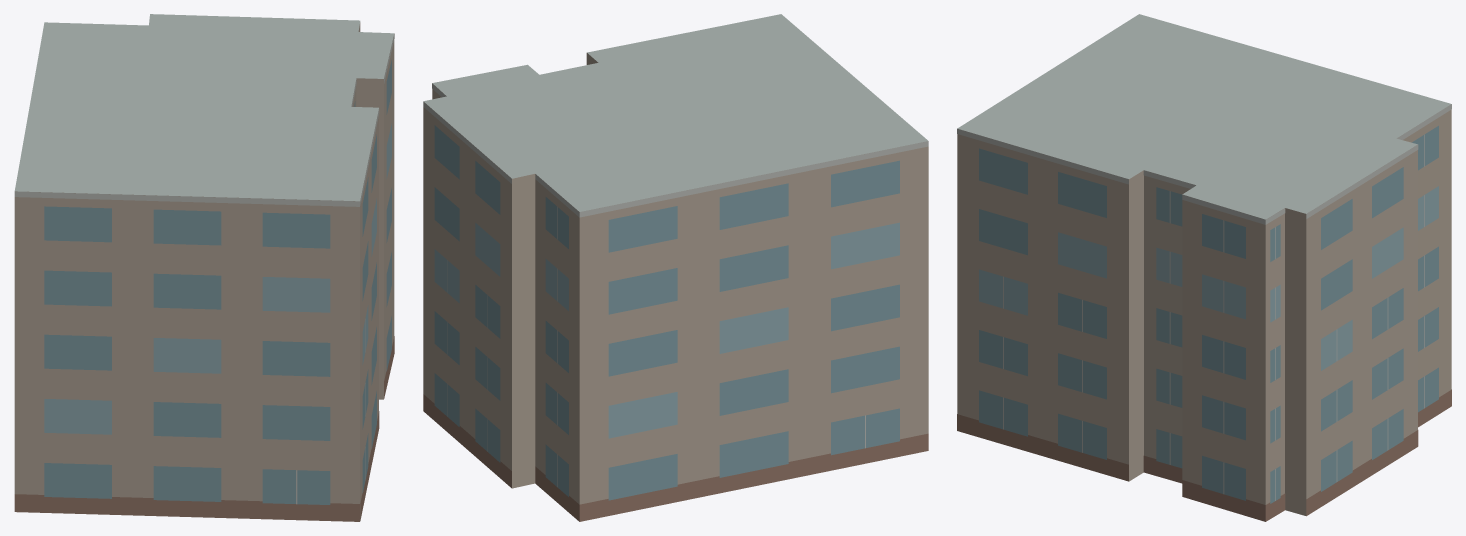
The model's file is survey-upis-32987307.glb.
The picture shows the model from 3 angles, left to right: view 1: azimuth 30°, elevation 25°; view 2: azimuth 150°, elevation 25°; view 3: azimuth 270°, elevation 25°; orthographic projection. The views are drawn at different scales.
Visible parts, largest first — view 1: survey-upis-32987307.tmp; view 2: survey-upis-32987307.tmp; view 3: survey-upis-32987307.tmp.
Boxes of the visible parts, x1,y1,x2,y2 form: survey-upis-32987307.tmp: (14, 14, 394, 521); survey-upis-32987307.tmp: (423, 14, 928, 521); survey-upis-32987307.tmp: (957, 14, 1451, 521).
Size of the model in its own units: 20.13 by 13.8 by 20.47.
